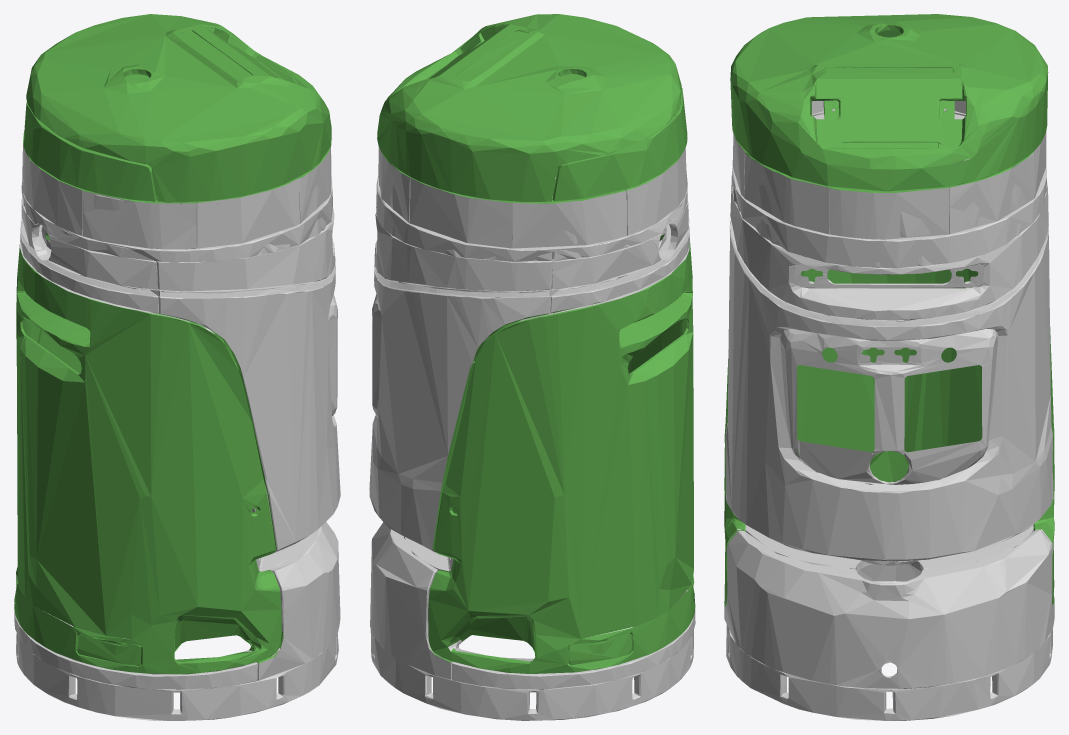
File: ita_green.dae
3 views of the same model, side by side, from view 1: azimuth 30°, elevation 25°; view 2: azimuth 150°, elevation 25°; view 3: azimuth 270°, elevation 25° (orthographic). The views are drawn at different scales.
Visible parts, largest first — view 1: Robot_001, Robot, Robot_002, LED_transparent; view 2: Robot_001, Robot, Robot_002, LED_transparent; view 3: Robot, Robot_002, Robot_001, LED_transparent.
Boxes of the visible parts, <box> form: Robot_001: <box>14,232,283,674</box>; Robot: <box>14,142,340,720</box>; Robot_002: <box>23,14,331,203</box>; LED_transparent: <box>20,218,335,297</box>; Robot_001: <box>428,233,695,673</box>; Robot: <box>369,145,695,720</box>; Robot_002: <box>377,14,687,203</box>; LED_transparent: <box>374,220,689,297</box>; Robot: <box>724,87,1054,720</box>; Robot_002: <box>730,14,1048,192</box>; Robot_001: <box>724,268,1054,607</box>; LED_transparent: <box>729,216,1047,326</box>.
Bounding box in the file's own units: 0.4888 × 0.483 × 0.971.
